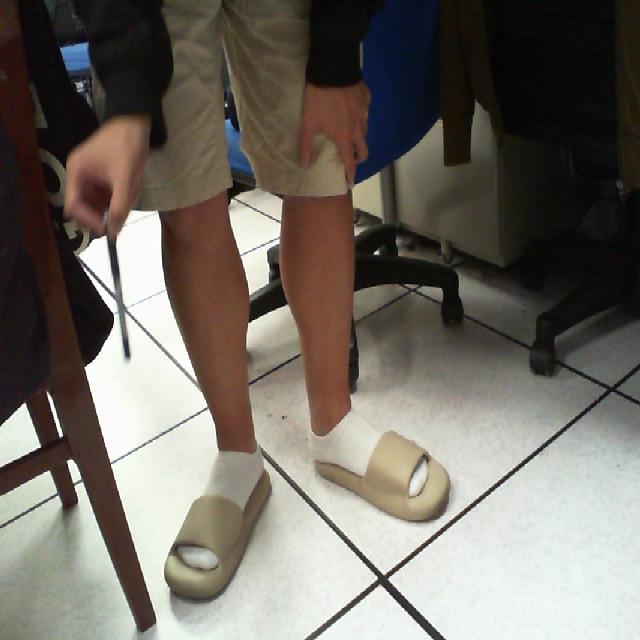Pen: (92, 200, 146, 371)
